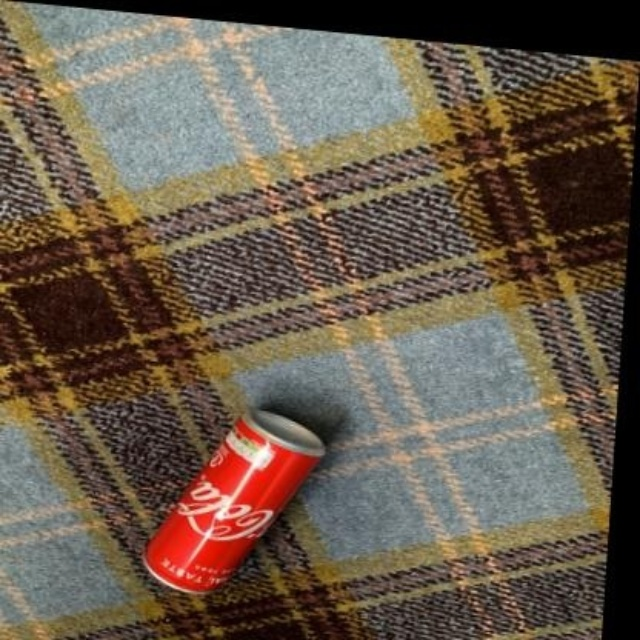trash: (146, 409, 323, 591)
